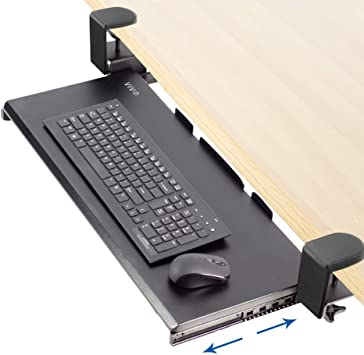keyboard: (32, 89, 242, 265)
mouse: (165, 253, 243, 294)
